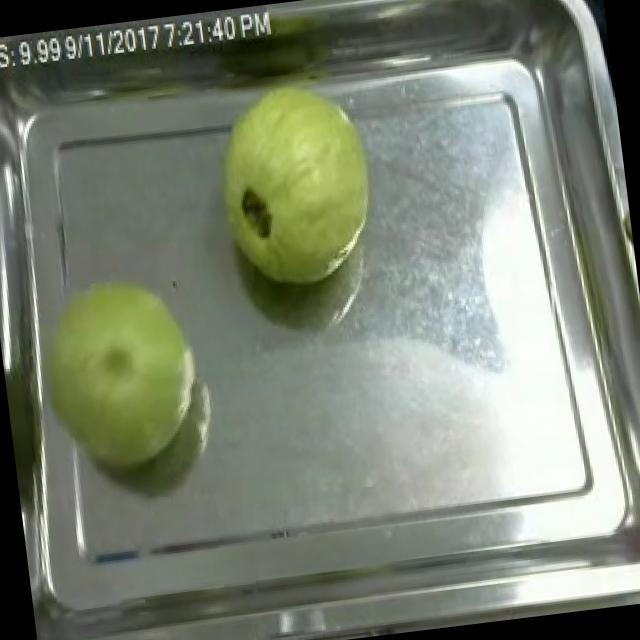Fruit: (0, 255, 219, 491), (198, 72, 392, 302)
